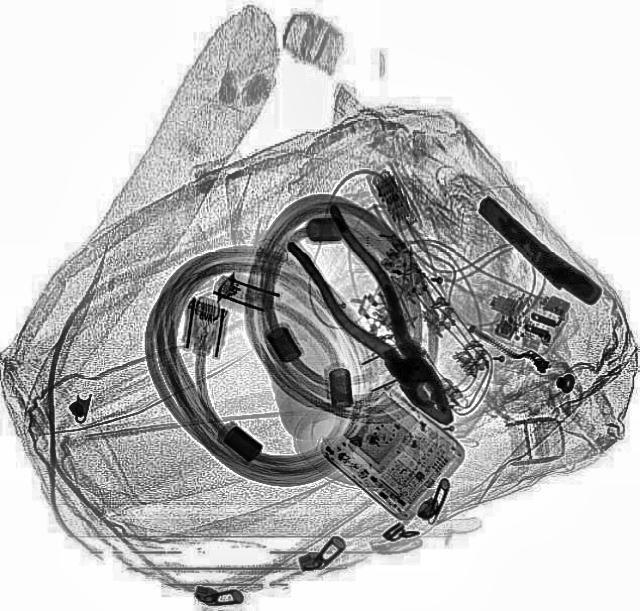Gun: (466, 193, 604, 310)
Pliers: (274, 200, 478, 440)
